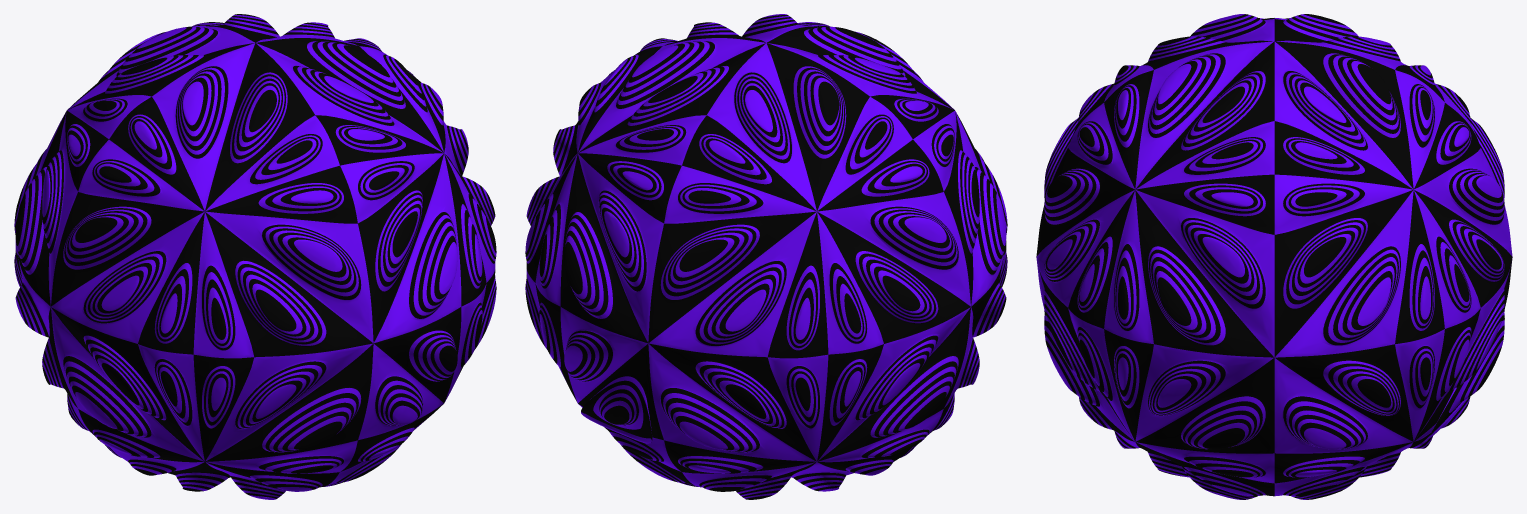
File: noumenon_sphere1_low_test.fbx
3 views of the same model, side by side, from view 1: azimuth 30°, elevation 25°; view 2: azimuth 150°, elevation 25°; view 3: azimuth 270°, elevation 25° (orthographic).
Visible parts, largest first — view 1: Box24152; view 2: Box24152; view 3: Box24152.
Part boxes in pixels (x1=…): Box24152: x1=14, y1=14, x2=496, y2=499; Box24152: x1=525, y1=14, x2=1007, y2=499; Box24152: x1=1036, y1=14, x2=1512, y2=499.
Bounding box in the file's own units: 62861 × 62861 × 62862.
